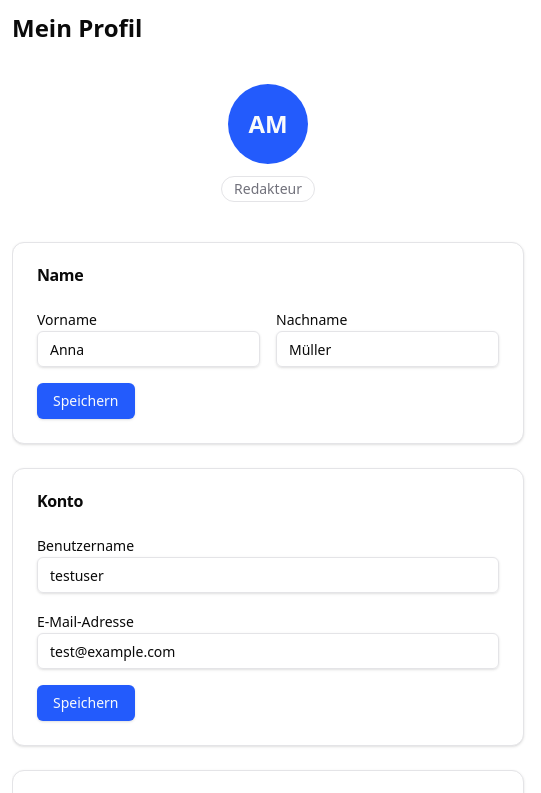
ProfilePage › Name section › shows validation error for empty firstName
Clear the field showing "Anna" below "Vorname" at (148, 349), box [37,331,260,367]
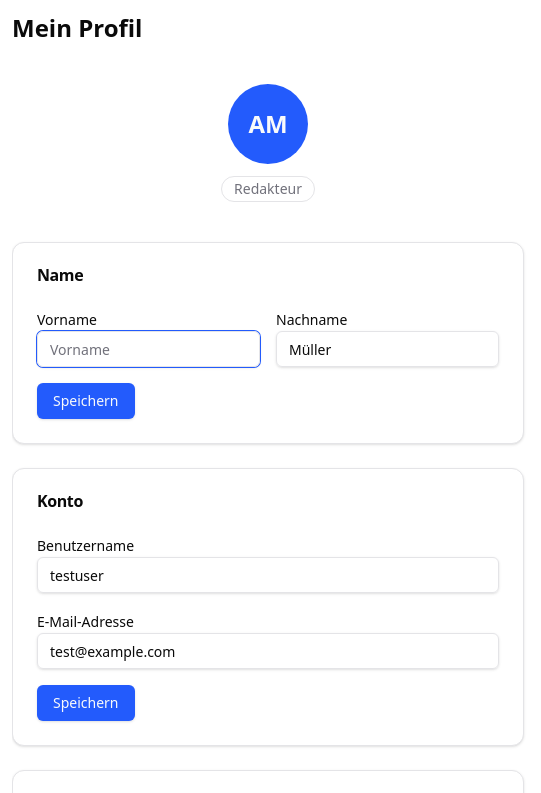
Click the button "Speichern" below "Vorname" at (86, 401), box [37,383,134,419]
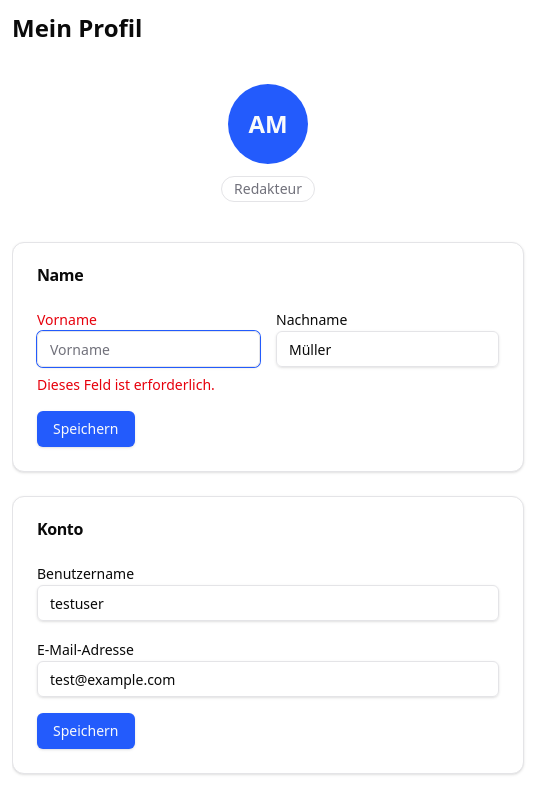
Now the text "Dieses Feld ist erforderlich." is shown, box [37,375,215,394]
